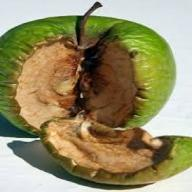apple: (2, 17, 170, 130), (29, 111, 189, 190)
